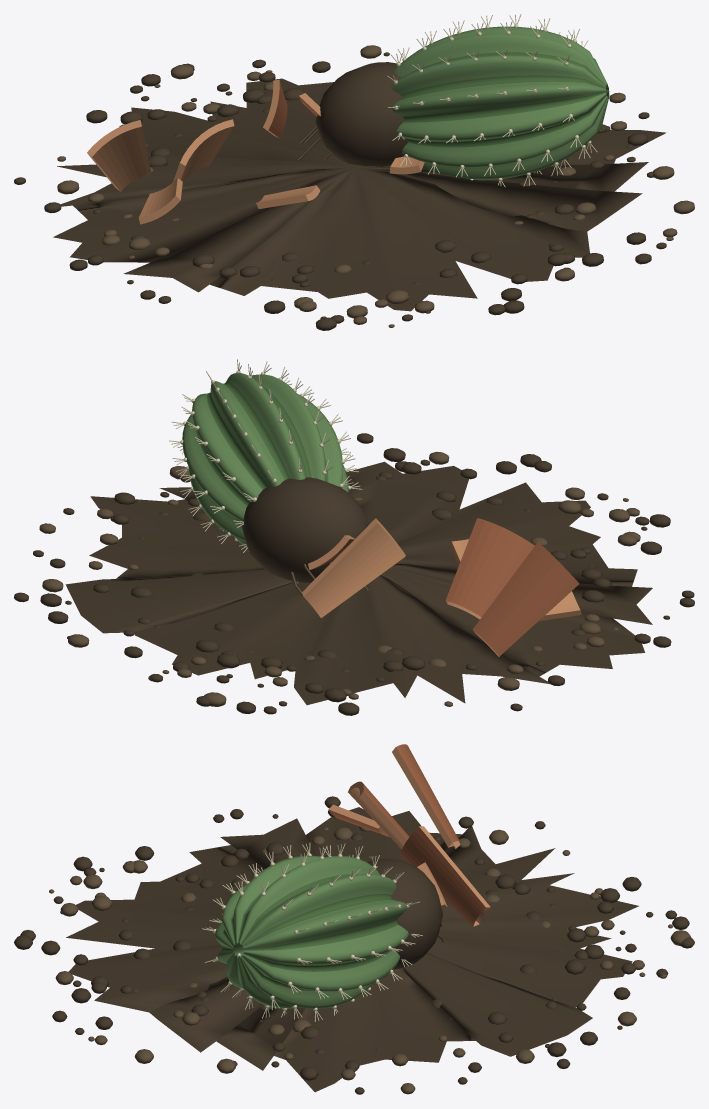
Rendered from broken_cactus_v08.glb.
3 views of the same model, one above another, from view 1: azimuth 30°, elevation 25°; view 2: azimuth 150°, elevation 25°; view 3: azimuth 270°, elevation 25° (orthographic).
Parts seen in each view (by area): view 1: DampPottingSoil, FallenRibbedCactus, DrySoilGrains, BrokenPotShard.001, CactusSpines, BrokenPotShard.005, BrokenPotShard.002, BrokenPotShard.006, BrokenPotShard.004, BrokenPotShard.003; view 2: DampPottingSoil, FallenRibbedCactus, BrokenPotShard.001, DrySoilGrains, BrokenPotShard.005, BrokenPotShard.006, CactusSpines, BrokenPotShard.002; view 3: DampPottingSoil, FallenRibbedCactus, DrySoilGrains, BrokenPotShard.006, CactusSpines, BrokenPotShard.001, BrokenPotShard.005, BrokenPotShard.002.
Part boxes in pixels (left/top/right/bottom): DampPottingSoil: left=14, top=52, right=666, bottom=330; FallenRibbedCactus: left=391, top=26, right=609, bottom=180; DrySoilGrains: left=57, top=45, right=694, bottom=327; BrokenPotShard.001: left=87, top=120, right=151, bottom=191; CactusSpines: left=387, top=14, right=600, bottom=187; BrokenPotShard.005: left=173, top=119, right=234, bottom=181; BrokenPotShard.002: left=139, top=178, right=182, bottom=224; BrokenPotShard.006: left=263, top=79, right=287, bottom=138; BrokenPotShard.004: left=256, top=185, right=320, bottom=208; BrokenPotShard.003: left=389, top=156, right=424, bottom=174; DampPottingSoil: left=14, top=433, right=694, bottom=715; FallenRibbedCactus: left=182, top=372, right=348, bottom=547; BrokenPotShard.001: left=473, top=542, right=579, bottom=656; DrySoilGrains: left=39, top=451, right=640, bottom=706; BrokenPotShard.005: left=445, top=518, right=534, bottom=619; BrokenPotShard.006: left=302, top=518, right=405, bottom=617; CactusSpines: left=169, top=359, right=362, bottom=552; BrokenPotShard.002: left=539, top=591, right=581, bottom=621; DampPottingSoil: left=14, top=796, right=694, bottom=1094; FallenRibbedCactus: left=215, top=855, right=408, bottom=1008; DrySoilGrains: left=49, top=826, right=690, bottom=1094; BrokenPotShard.006: left=400, top=826, right=490, bottom=926; CactusSpines: left=202, top=843, right=422, bottom=1021; BrokenPotShard.001: left=392, top=744, right=460, bottom=848; BrokenPotShard.005: left=348, top=781, right=409, bottom=849; BrokenPotShard.002: left=328, top=804, right=389, bottom=836.
Size of the model in its own units: 0.6863 by 0.2039 by 0.6719.
